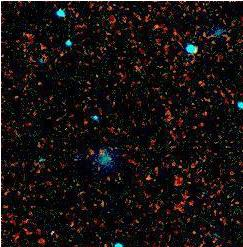star: (134, 163, 164, 193)
